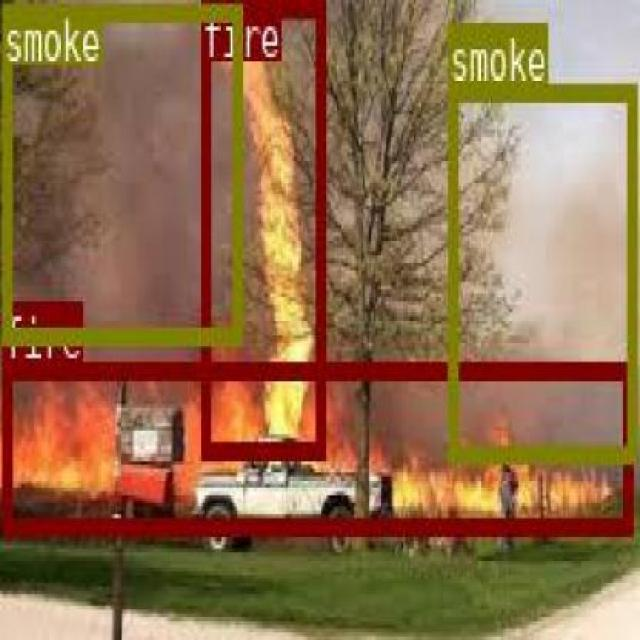Fire: (0, 362, 631, 530), (199, 0, 324, 454)
Smoke: (2, 1, 240, 341), (448, 82, 634, 458)
